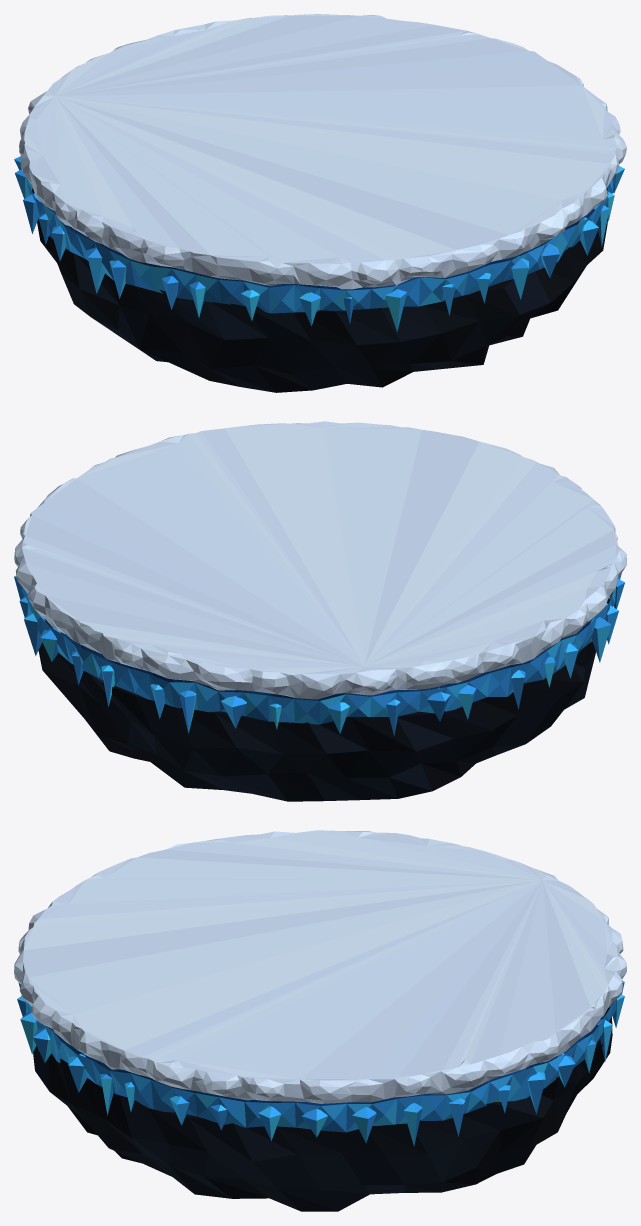
File: ConceptPlatform.fbx
3 views of the same model, one above another, from view 1: azimuth 30°, elevation 25°; view 2: azimuth 150°, elevation 25°; view 3: azimuth 270°, elevation 25° (orthographic).
Parts seen in each view (by area): view 1: ConceptPlatform; view 2: ConceptPlatform; view 3: ConceptPlatform.
Part boxes in pixels (x1,y1,x2,y2): ConceptPlatform: (14,14,626,392); ConceptPlatform: (14,421,626,801); ConceptPlatform: (14,830,626,1211).
Size of the model in its own units: 22.58 by 6.5 by 22.53.
